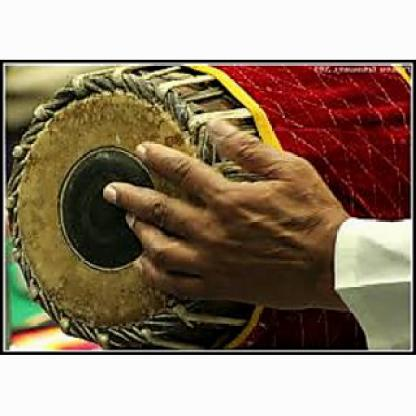Mridangam: (8, 64, 413, 348)
